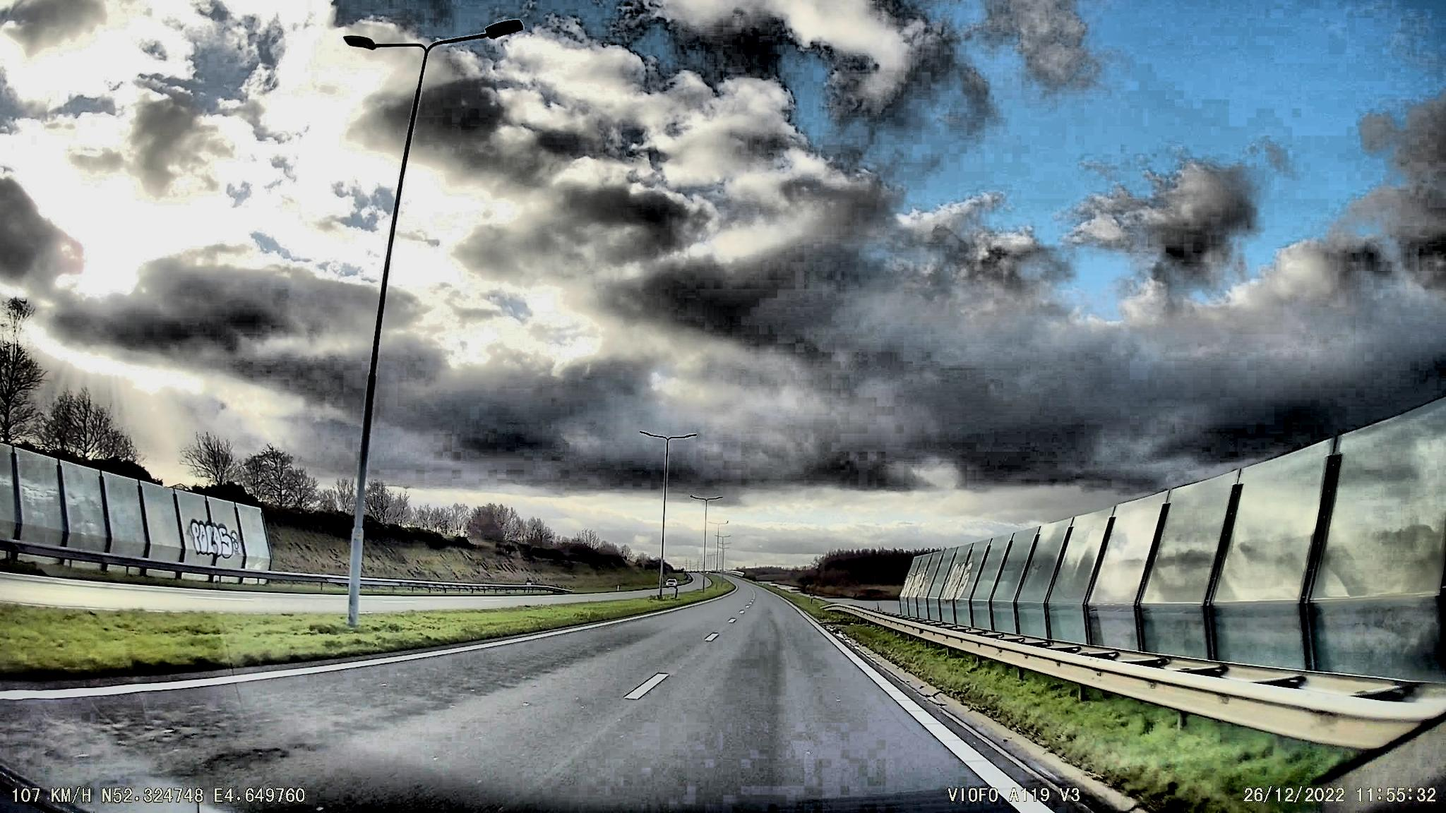Roads: (0, 586, 1139, 813)
